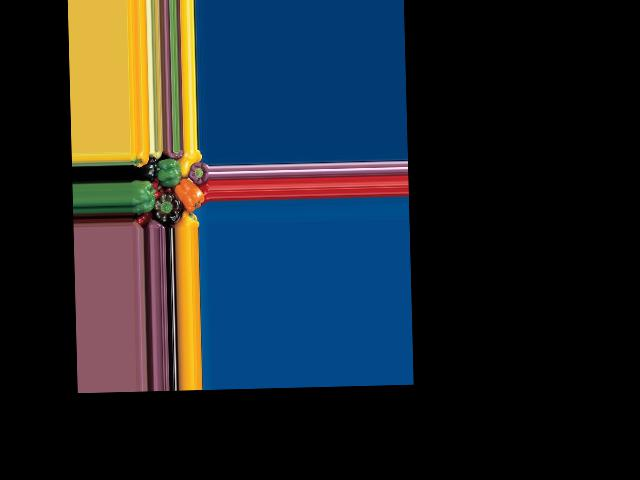bell_pepper: (130, 181, 153, 215)
